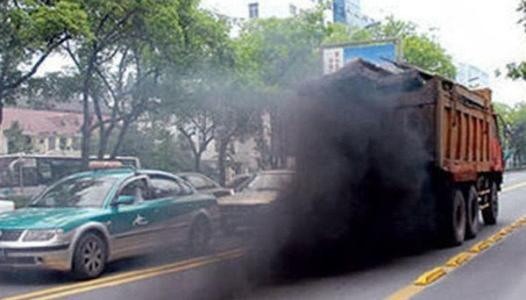smoke: (157, 89, 434, 300)
